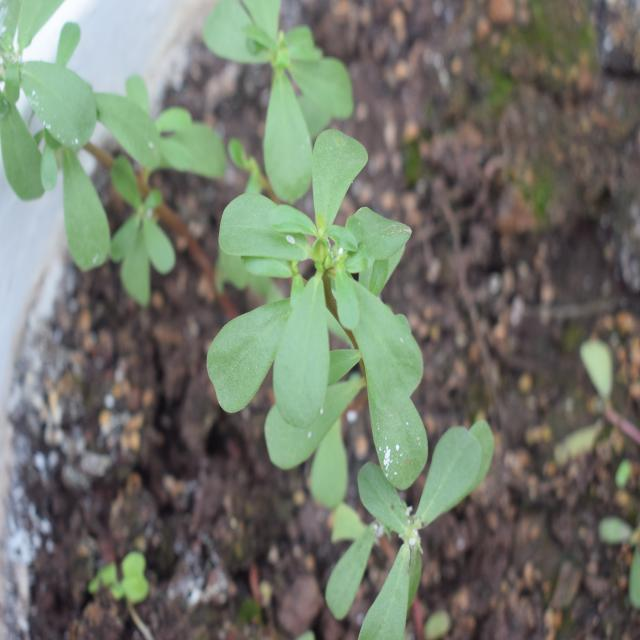purslane: (209, 129, 458, 605), (0, 0, 191, 284)
